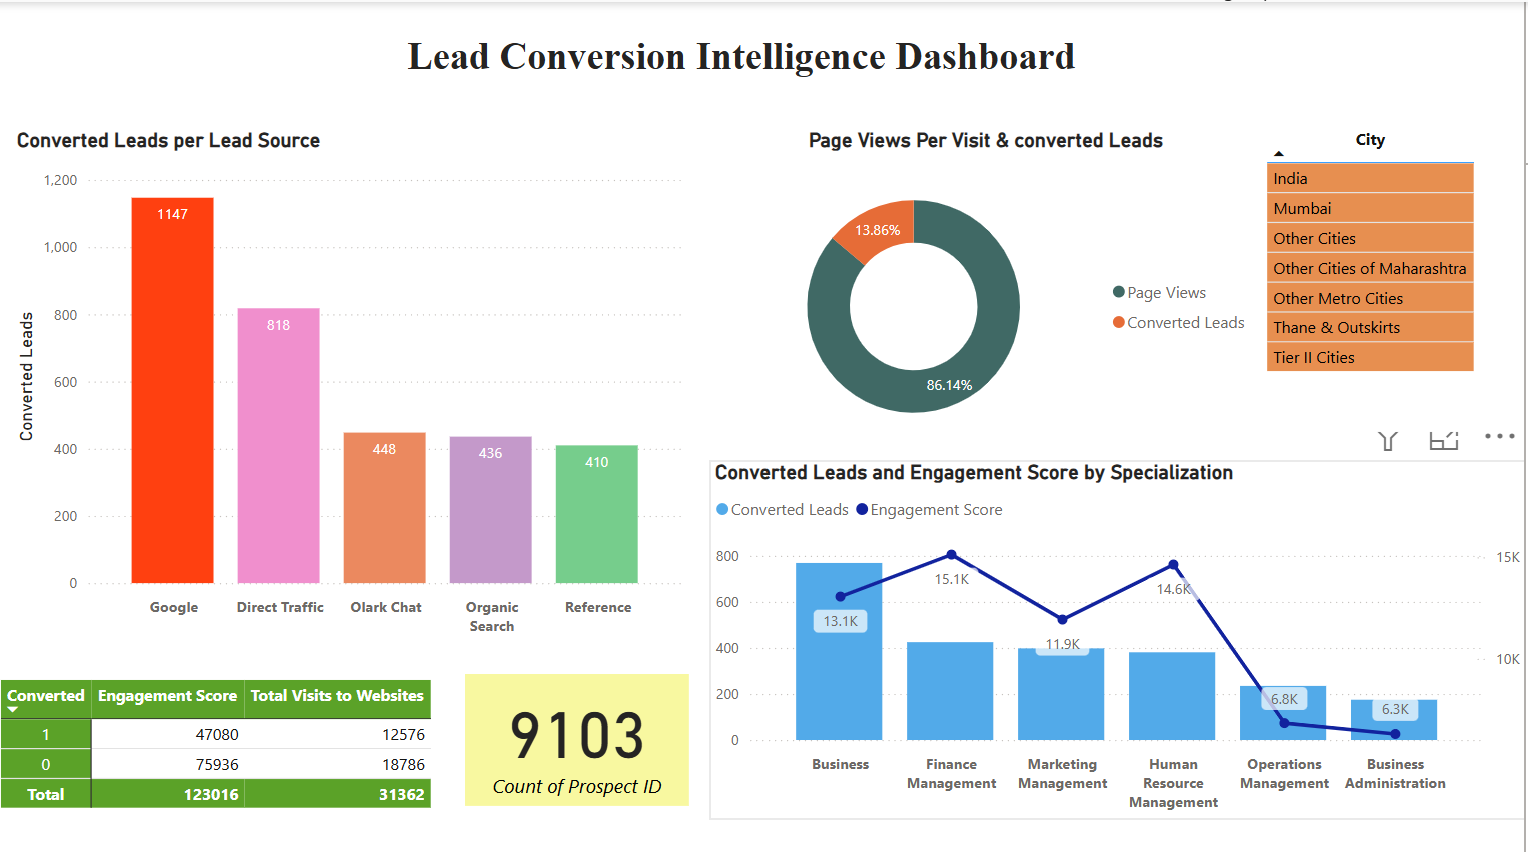

This screenshot's page, from the dashboard's own definition file:
{"tool":"powerbi","page":{"name":"Page 1","canvas":[1280,720],"ordinal":0},"visuals":[{"type":"columnChart","title":"Converted Leads per Lead Source","fields":{"Y":["Sum(lead_scoring_output.Converted)"],"Category":["lead_scoring_output.Lead Source"]},"box":[13.4,105.5,568,432.3],"z":0},{"type":"lineStackedColumnComboChart","fields":{"Category":["lead_scoring_output.Specialization"],"Y":["Sum(lead_scoring_output.Converted)"],"Y2":["Sum(lead_scoring_output.Engagement Score)"]},"box":[598.1,383.7,683.6,301.6],"z":1000},{"type":"donutChart","title":"Page Views Per Visit & converted Leads","fields":{"Y":["Sum(lead_scoring_output.Page Views Per Visit)","Sum(lead_scoring_output.Converted)"]},"box":[598.1,105.5,462.4,278.1],"z":2000},{"type":"card","fields":{"Values":["Count(lead_scoring_output.Prospect ID)"]},"box":[393.7,562.9,187.6,110.6],"z":3000},{"type":"tableEx","fields":{"Values":["lead_scoring_output.City"]},"box":[1058.8,97.2,221.2,263],"z":4000},{"type":"pivotTable","fields":{"Values":["Sum(lead_scoring_output.Engagement Score)","Sum(lead_scoring_output.TotalVisits)"],"Rows":["lead_scoring_output.Converted"]},"box":[0,562.9,373.6,157.5],"z":5000},{"type":"textbox","box":[13.4,21.8,1223,75.4],"z":6000}]}

Visuals, with their boxes in screenshot pixels (x1, y1, x2, y2), scaled from the page's 1280x720 canvas onto the 1528x852 screenshot:
"Converted Leads per Lead Source" columnChart: {"x1": 16, "y1": 125, "x2": 694, "y2": 636}
lineStackedColumnComboChart - lead_scoring_output.Specialization x Sum(lead_scoring_output.Converted): {"x1": 714, "y1": 454, "x2": 1527, "y2": 811}
"Page Views Per Visit & converted Leads" donutChart: {"x1": 714, "y1": 125, "x2": 1266, "y2": 454}
card - Count(lead_scoring_output.Prospect ID): {"x1": 470, "y1": 666, "x2": 694, "y2": 797}
tableEx - lead_scoring_output.City: {"x1": 1264, "y1": 115, "x2": 1527, "y2": 426}
pivotTable - Sum(lead_scoring_output.Engagement Score) x Sum(lead_scoring_output.TotalVisits): {"x1": 0, "y1": 666, "x2": 446, "y2": 851}
textbox: {"x1": 16, "y1": 26, "x2": 1476, "y2": 115}
